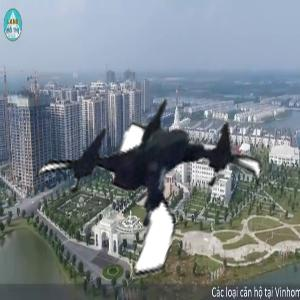drone: (42, 71, 260, 289)
